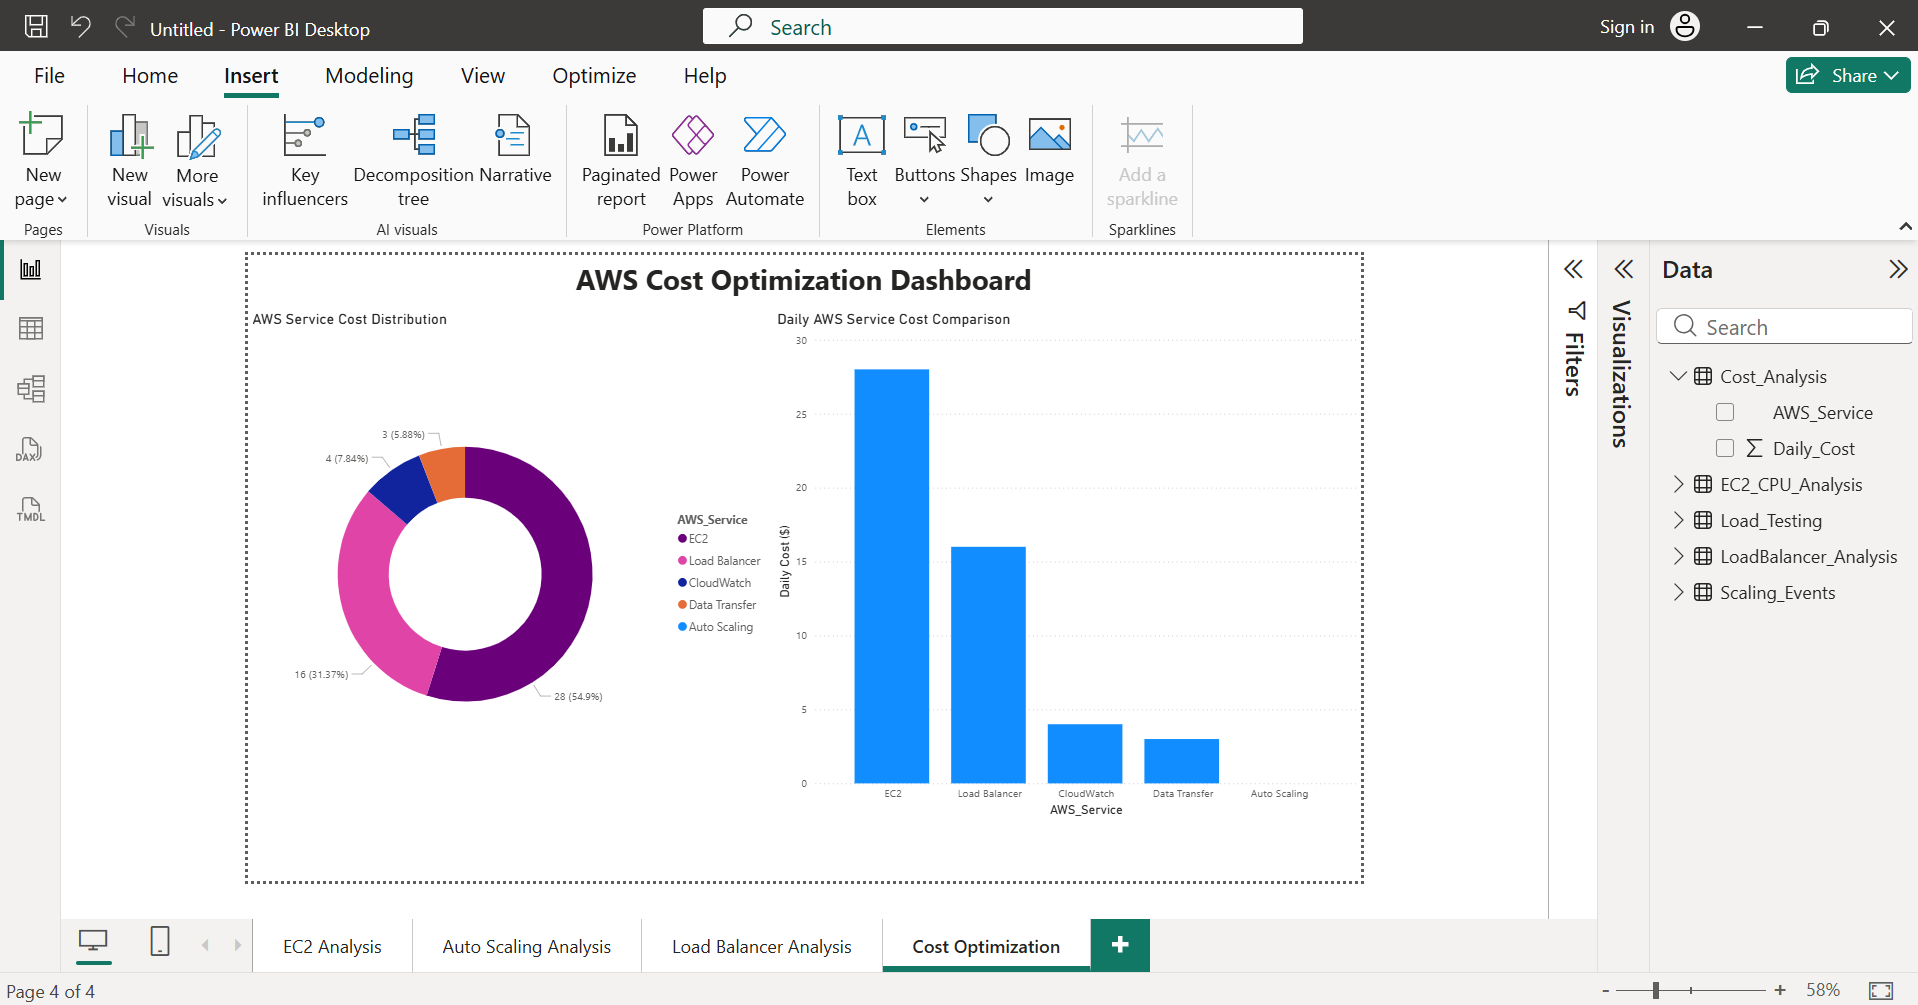

The page's visual inventory and layout, read from the dashboard file:
{"tool":"powerbi","page":{"name":"Cost Optimization","canvas":[1280,720],"ordinal":3},"visuals":[{"type":"textbox","box":[358.6,0,560.3,63.8],"z":0},{"type":"donutChart","title":"AWS Service Cost Distribution","fields":{"Category":["Cost_Analysis.AWS_Service"],"Y":["Sum(Cost_Analysis.Daily_Cost)"]},"box":[0,63.8,603.4,586.2],"z":1000},{"type":"clusteredColumnChart","title":"Daily AWS Service Cost Comparison","fields":{"Category":["Cost_Analysis.AWS_Service"],"Y":["Sum(Cost_Analysis.Daily_Cost)"]},"box":[603.4,63.8,675.9,586.2],"z":2000}]}

Visuals, with their boxes on the page's 1280x720 design canvas (x1, y1, x2, y2). These are canvas units, not pixel positions in the 1918x1005 screenshot, which may show the page scaled, cropped or inside an application window:
textbox: Rect(359, 0, 919, 64)
"AWS Service Cost Distribution" donutChart: Rect(0, 64, 603, 650)
"Daily AWS Service Cost Comparison" clusteredColumnChart: Rect(603, 64, 1279, 650)
